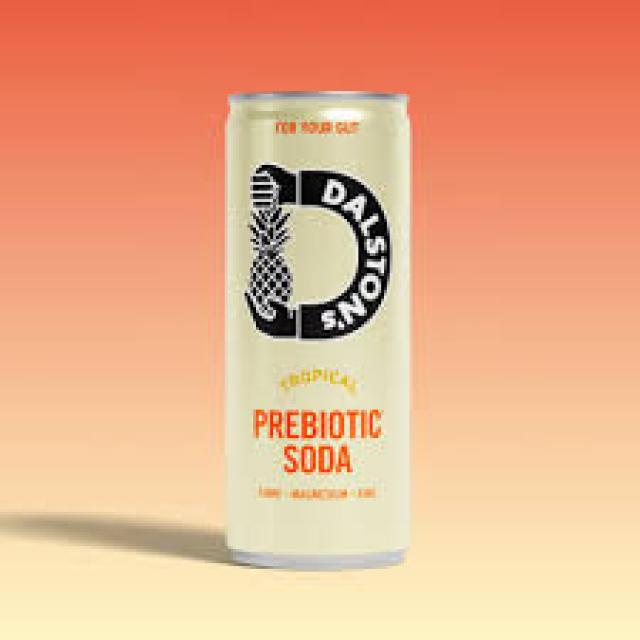Cans: (210, 82, 427, 580)
